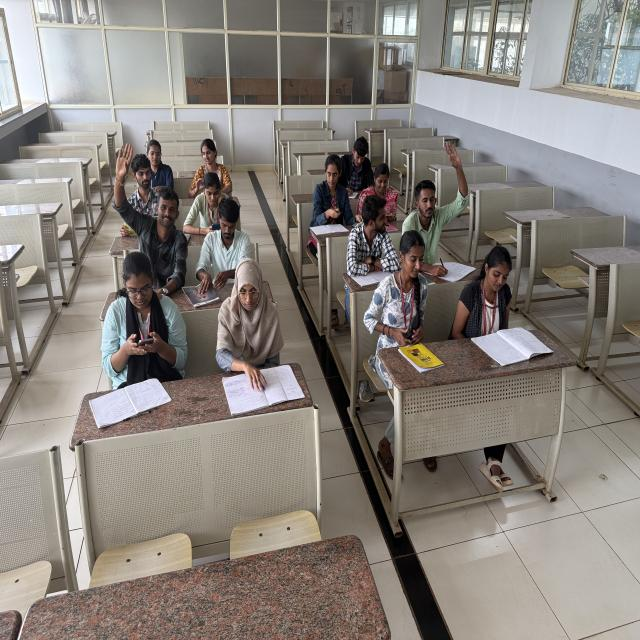Hand Rising: (112, 140, 184, 263), (407, 136, 468, 262)
Reading: (217, 255, 289, 400), (466, 245, 523, 354)
Using Phone: (98, 249, 187, 372), (183, 170, 230, 232), (366, 163, 403, 227)
Writing: (338, 133, 377, 200)
